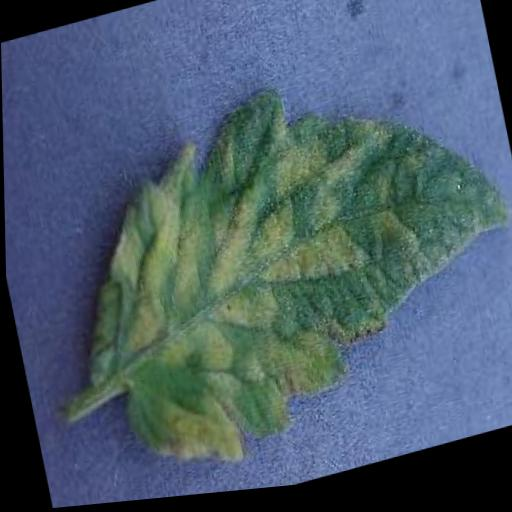Leaf Mold: (39, 37, 512, 497)
